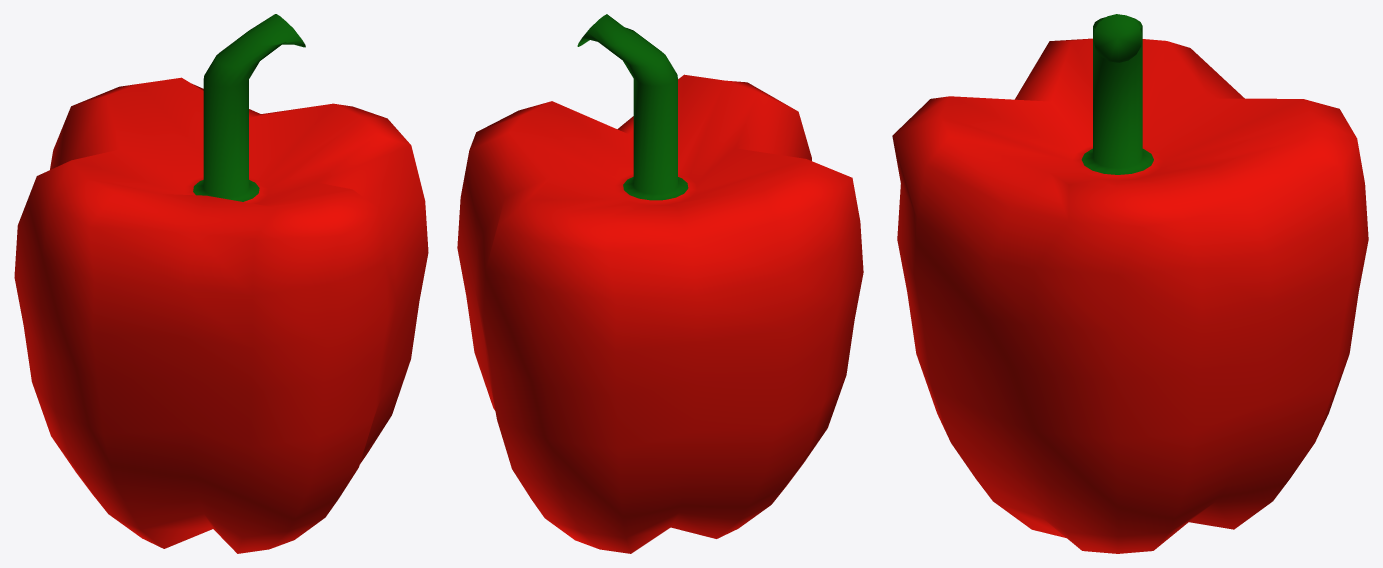
The model's file is PIMENTON.fbx.
3 views of the same model, side by side, from view 1: azimuth 30°, elevation 25°; view 2: azimuth 150°, elevation 25°; view 3: azimuth 270°, elevation 25° (orthographic). The views are drawn at different scales.
Visible parts, largest first — view 1: Sphere; view 2: Sphere; view 3: Sphere.
Part boxes in pixels (x1,y1,x2,y2): Sphere: [14, 14, 428, 553]; Sphere: [457, 14, 863, 553]; Sphere: [892, 14, 1368, 553].
Bounding box in the file's own units: 217 × 281 × 228.
